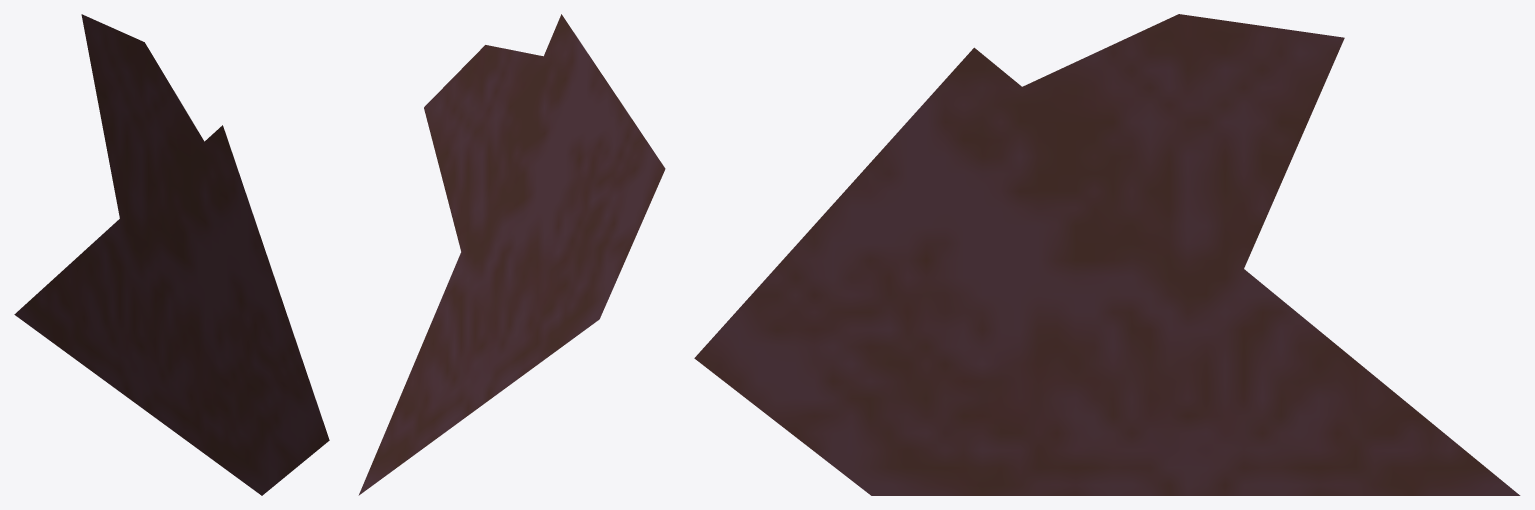
File: Past_BrokenWall4.fbx
3 renders of one model, left to right at view 1: azimuth 30°, elevation 25°; view 2: azimuth 150°, elevation 25°; view 3: azimuth 270°, elevation 25°, orthographic. The views are drawn at different scales.
Visible parts, largest first — view 1: polySurface409; view 2: polySurface409; view 3: polySurface409.
Part boxes in pixels (box(x1,y1,x2,y2)): polySurface409: box(14, 14, 329, 495); polySurface409: box(358, 14, 665, 495); polySurface409: box(694, 14, 1520, 495).
Bounding box in the file's own units: 0 × 68.31 × 106.
Materials: 1 (1 with a texture image).
